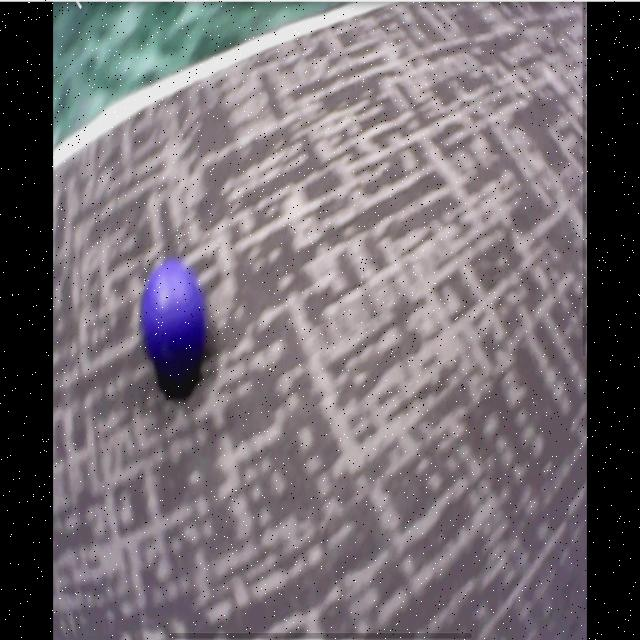ball: (142, 263, 204, 376)
